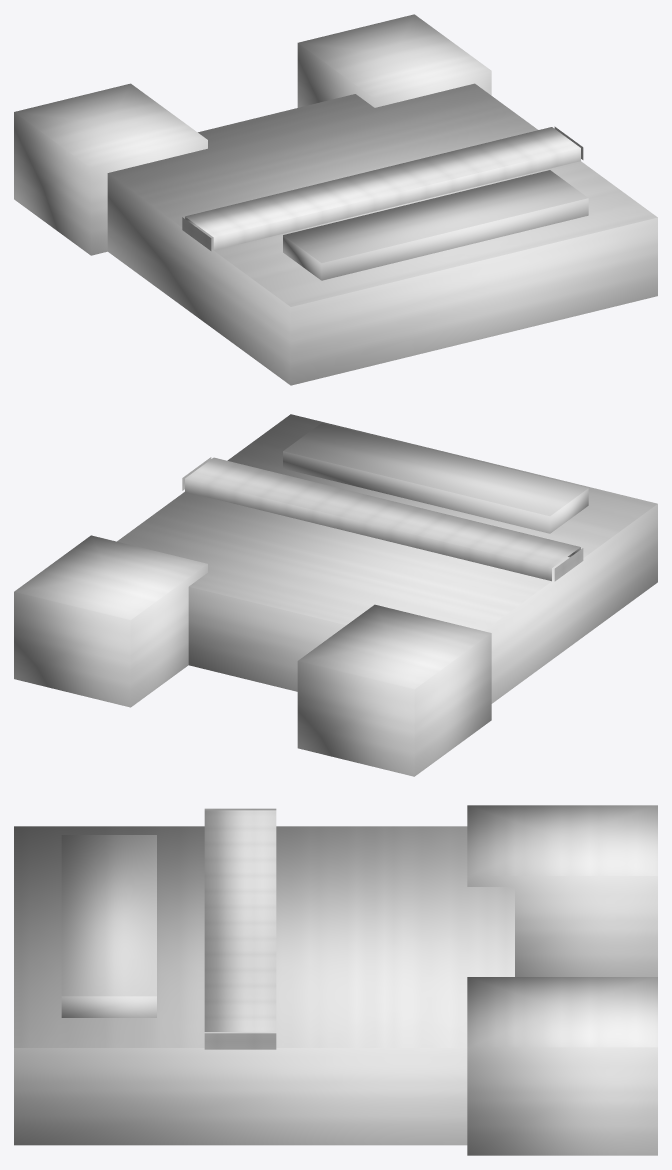
The model's file is vest.obj.
3 renders of one model, top to bottom at view 1: azimuth 30°, elevation 25°; view 2: azimuth 150°, elevation 25°; view 3: azimuth 270°, elevation 25°, orthographic. The views are drawn at different scales.
Visible parts, largest first — view 1: vest_part_01, vest_part_02, vest_part_07, vest_part_04, vest_part_03; view 2: vest_part_01, vest_part_02, vest_part_03, vest_part_07, vest_part_04; view 3: vest_part_01, vest_part_03, vest_part_02, vest_part_07, vest_part_04, vest_part_06.
Boxes of the visible parts, x1,y1,x2,y2 form: vest_part_01: [107, 83, 657, 385]; vest_part_02: [14, 83, 207, 255]; vest_part_07: [283, 170, 588, 280]; vest_part_04: [185, 127, 580, 250]; vest_part_03: [297, 14, 491, 107]; vest_part_01: [117, 414, 657, 703]; vest_part_02: [297, 604, 491, 776]; vest_part_03: [14, 535, 207, 707]; vest_part_07: [283, 423, 588, 533]; vest_part_04: [185, 457, 580, 581]; vest_part_01: [14, 826, 514, 1145]; vest_part_03: [467, 977, 657, 1155]; vest_part_02: [467, 805, 657, 976]; vest_part_07: [61, 835, 156, 1017]; vest_part_04: [204, 810, 276, 1031]; vest_part_06: [204, 1033, 276, 1049].
Bounding box in the file's own units: 0.48 × 0.11 × 0.54.
